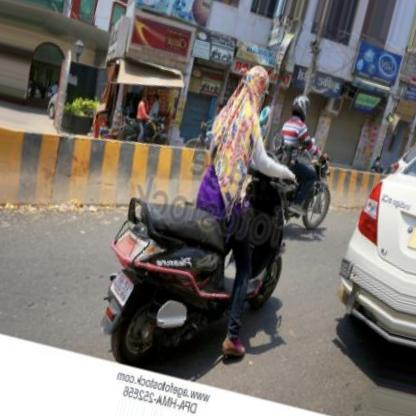with helmet: (291, 96, 311, 124)
